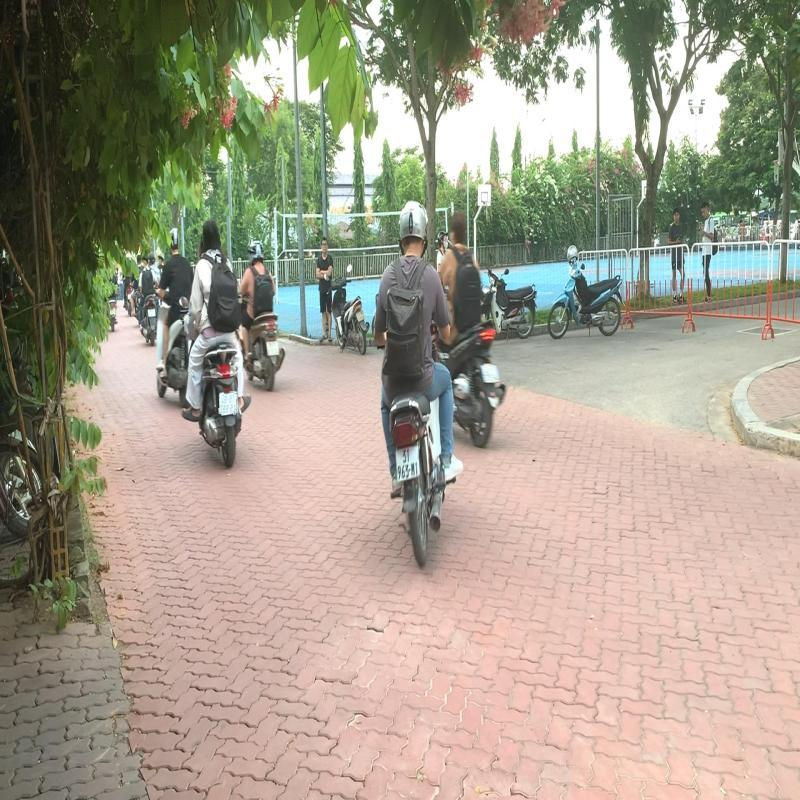licenseplate: (218, 392, 238, 416)
motorcyclist: (178, 217, 254, 469)
nohelmet: (201, 221, 221, 248)
